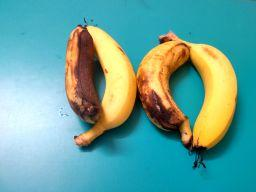banana: (156, 30, 240, 171), (73, 18, 139, 148), (135, 39, 193, 148), (65, 23, 103, 126)
